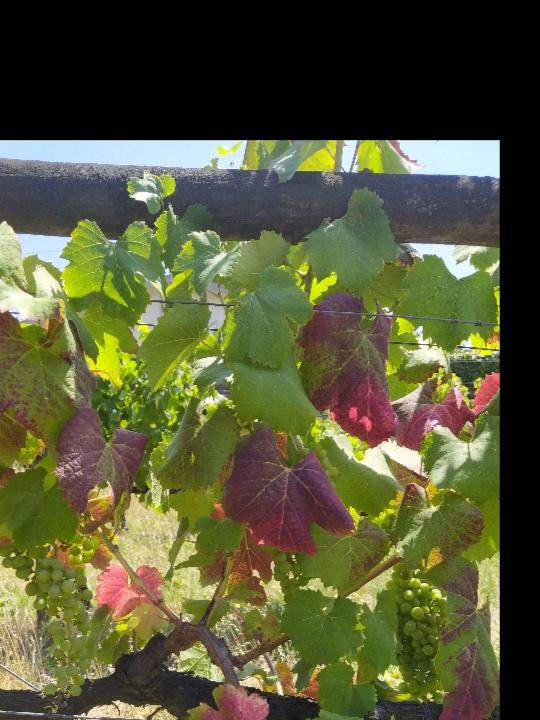grape: (0, 537, 106, 704), (385, 570, 452, 701)
